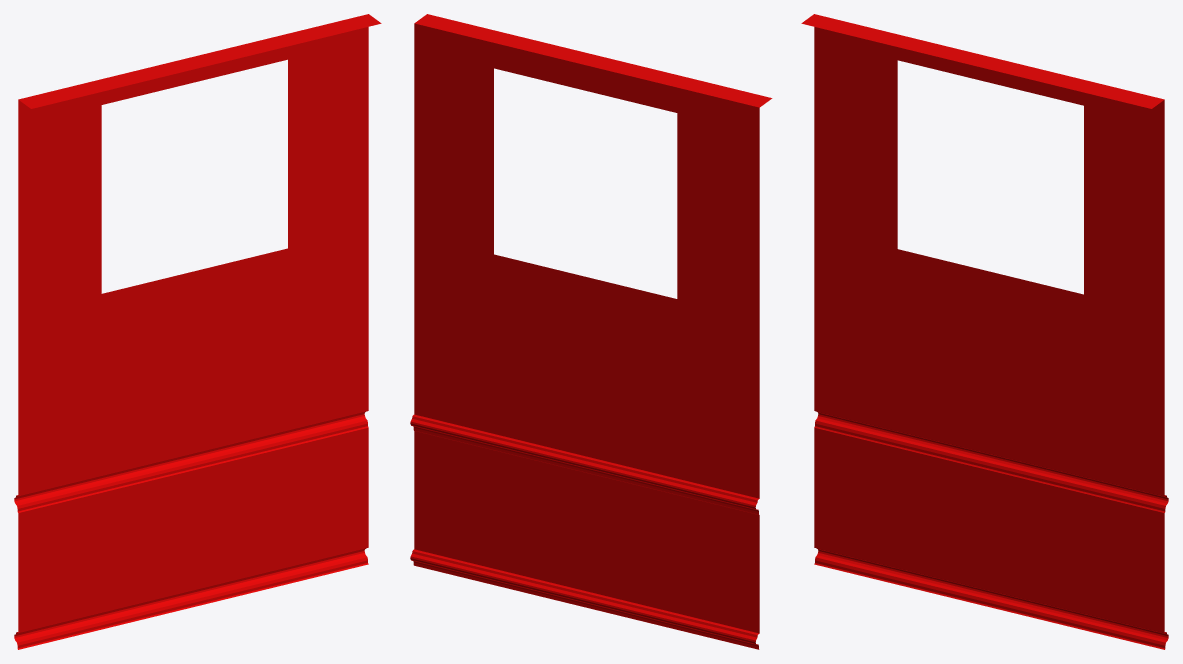
Rendered from HoleWall.fbx.
The picture shows the model from 3 angles, left to right: view 1: azimuth 30°, elevation 25°; view 2: azimuth 150°, elevation 25°; view 3: azimuth 330°, elevation 25°; orthographic projection.
Parts seen in each view (by area): view 1: WallwithHole1; view 2: WallwithHole1; view 3: WallwithHole1.
Boxes of the visible parts, x1,y1,x2,y2 form: WallwithHole1: [14, 14, 381, 649]; WallwithHole1: [410, 14, 772, 649]; WallwithHole1: [801, 14, 1168, 649].
Bounding box in the file's own units: 185 × 277 × 15.59.
